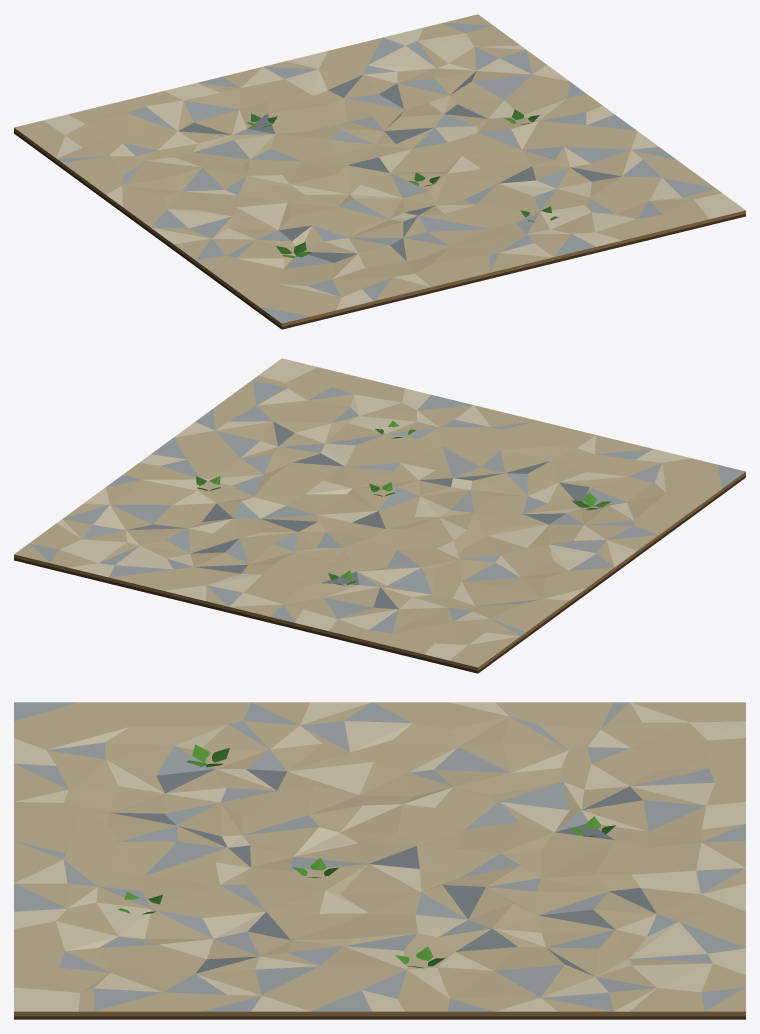
Rendered from gravel-tile-4a99d0.glb.
The picture shows the model from 3 angles, top to bottom: view 1: azimuth 30°, elevation 25°; view 2: azimuth 150°, elevation 25°; view 3: azimuth 270°, elevation 25°; orthographic projection. The views are drawn at different scales.
Visible parts, largest first — view 1: gravel-tile-mesh; view 2: gravel-tile-mesh; view 3: gravel-tile-mesh.
Part boxes in pixels (x1=…): gravel-tile-mesh: x1=14, y1=14, x2=745, y2=329; gravel-tile-mesh: x1=14, y1=358, x2=745, y2=673; gravel-tile-mesh: x1=14, y1=702, x2=745, y2=1019.
Bounding box in the file's own units: 4 × 0.0778 × 4.
